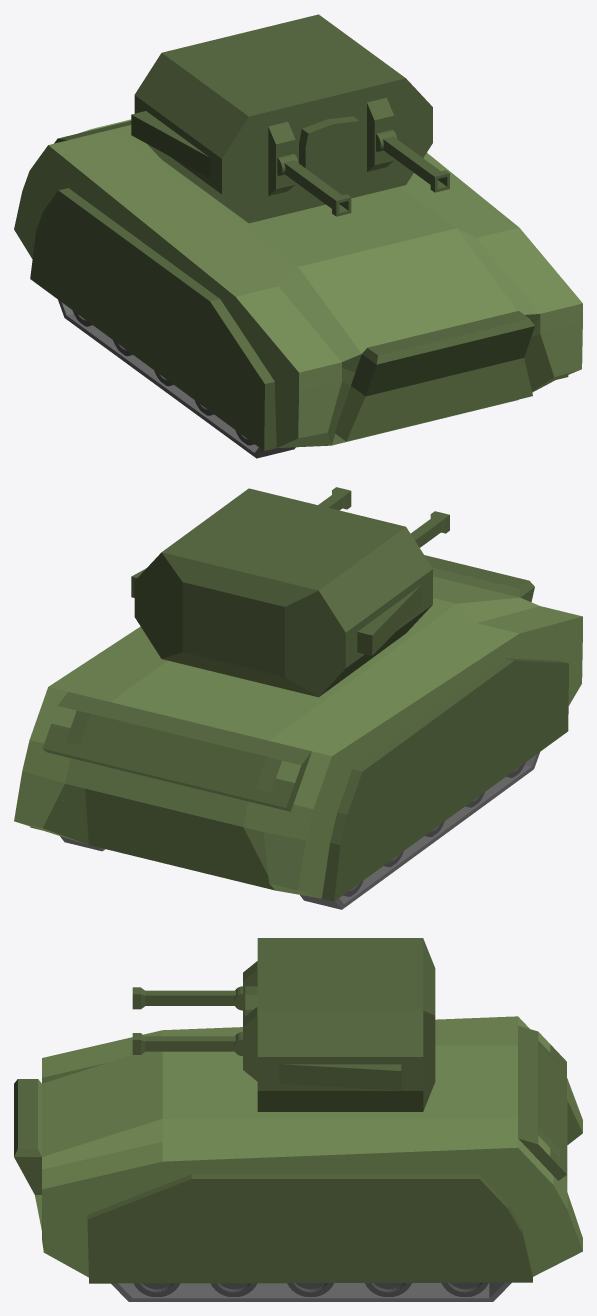
File: tier2.fbx
3 renders of one model, top to bottom at view 1: azimuth 30°, elevation 25°; view 2: azimuth 150°, elevation 25°; view 3: azimuth 270°, elevation 25°, orthographic. The views are drawn at different scales.
Visible parts, largest first — view 1: Body8, Turret8, Main Gun8, Tracks8; view 2: Body8, Turret8, Tracks8, Main Gun8, Road Wheels8; view 3: Body8, Turret8, Tracks8, Main Gun8, Road Wheels8.
Boxes of the visible parts, x1=… form: Body8: x1=14, y1=119, x2=582, y2=450; Turret8: x1=131, y1=14, x2=432, y2=223; Main Gun8: x1=277, y1=129, x2=449, y2=216; Tracks8: x1=58, y1=300, x2=295, y2=458; Body8: x1=14, y1=555, x2=582, y2=901; Turret8: x1=131, y1=488, x2=432, y2=697; Tracks8: x1=60, y1=752, x2=539, y2=909; Main Gun8: x1=318, y1=487, x2=449, y2=547; Road Wheels8: x1=343, y1=762, x2=525, y2=896; Body8: x1=14, y1=1016, x2=582, y2=1283; Turret8: x1=243, y1=938, x2=435, y2=1111; Tracks8: x1=111, y1=1282, x2=511, y2=1301; Main Gun8: x1=132, y1=986, x2=242, y2=1056; Road Wheels8: x1=133, y1=1282, x2=488, y2=1296.
Size of the model in its own units: 386 by 336 by 659.
